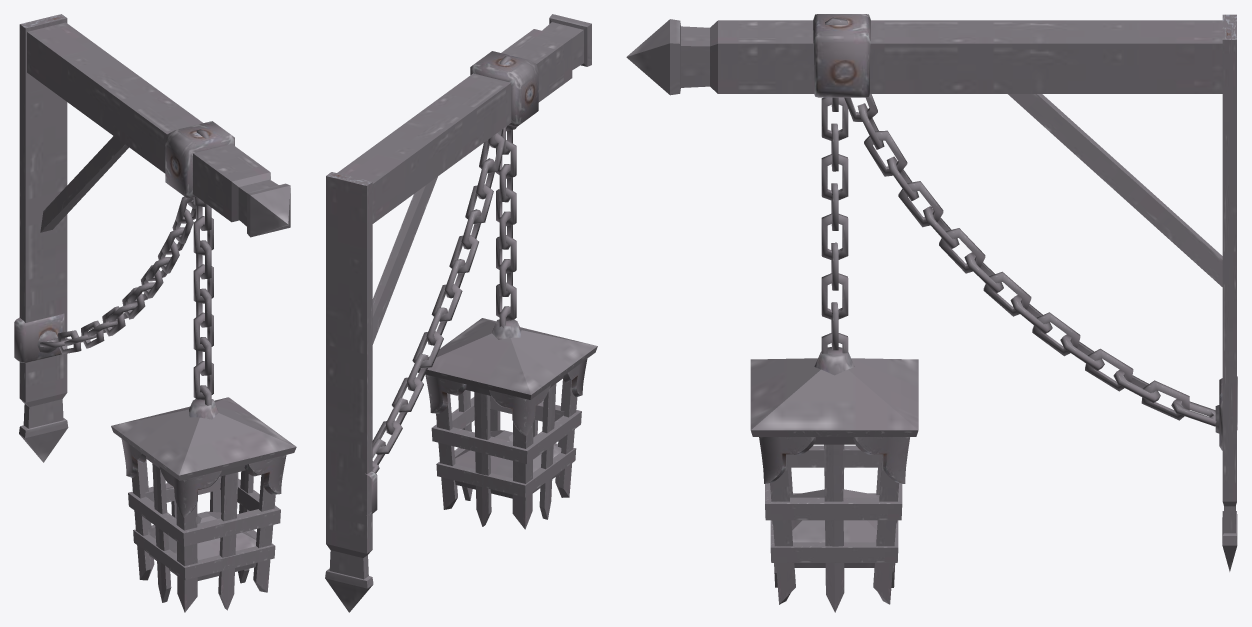
The model's file is lantern-wall.glb.
The picture shows the model from 3 angles, left to right: view 1: azimuth 30°, elevation 25°; view 2: azimuth 150°, elevation 25°; view 3: azimuth 270°, elevation 25°; orthographic projection. The views are drawn at different scales.
Parts seen in each view (by area): view 1: Lantern_Wall; view 2: Lantern_Wall; view 3: Lantern_Wall.
Boxes of the visible parts, x1,y1,x2,y2 form: Lantern_Wall: [14, 14, 296, 612]; Lantern_Wall: [325, 14, 597, 612]; Lantern_Wall: [626, 14, 1237, 612].
Bounding box in the file's own units: 0.3573 × 1.34 × 1.3.
1 material, 1 textured.
